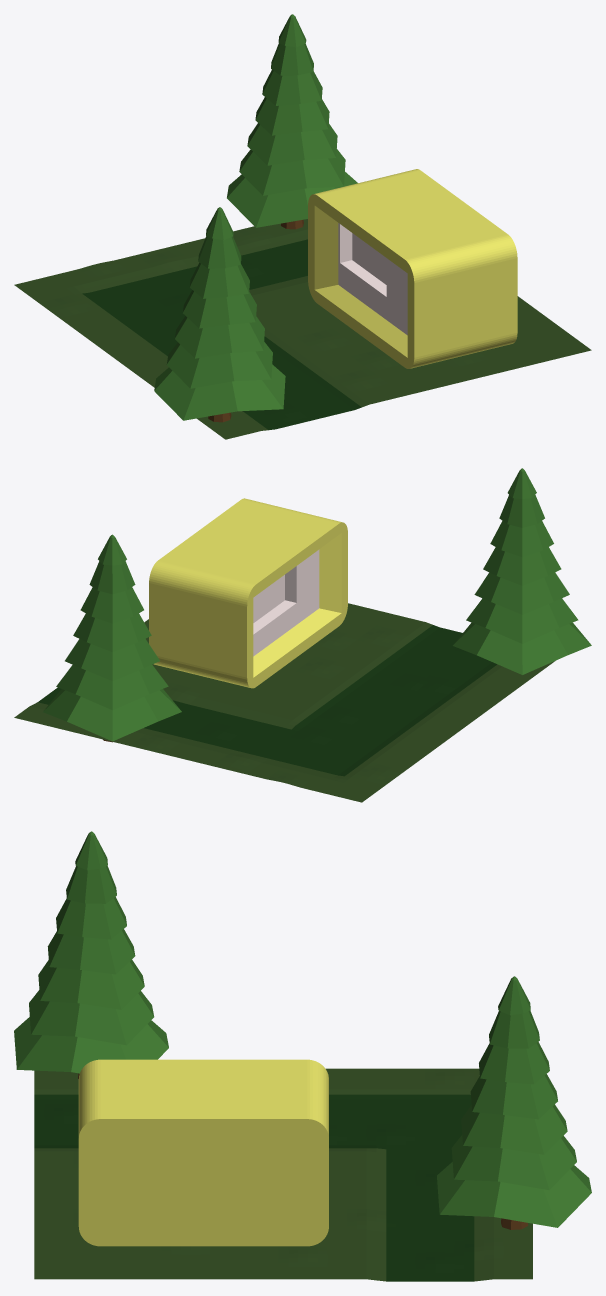
The model's file is testScene.gltf.
3 renders of one model, top to bottom at view 1: azimuth 30°, elevation 25°; view 2: azimuth 150°, elevation 25°; view 3: azimuth 270°, elevation 25°, orthographic. The views are drawn at different scales.
Visible parts, largest first — view 1: Plane, Cube, Low Poly Tree 5.001, Low Poly Tree 5.003; view 2: Plane, Cube, Low Poly Tree 5.003, Low Poly Tree 5.001; view 3: Plane, Cube, Low Poly Tree 5.003, Low Poly Tree 5.001.
Boxes of the visible parts, x1=… form: Plane: x1=14, y1=219, x2=591, y2=439; Cube: x1=308, y1=169, x2=517, y2=368; Low Poly Tree 5.001: x1=154, y1=207, x2=285, y2=422; Low Poly Tree 5.003: x1=227, y1=14, x2=357, y2=229; Plane: x1=14, y1=603, x2=554, y2=802; Cube: x1=149, y1=498, x2=347, y2=688; Low Poly Tree 5.003: x1=43, y1=534, x2=181, y2=742; Low Poly Tree 5.001: x1=452, y1=468, x2=591, y2=674; Plane: x1=34, y1=1068, x2=532, y2=1281; Cube: x1=78, y1=1059, x2=328, y2=1246; Low Poly Tree 5.003: x1=437, y1=976, x2=591, y2=1229; Low Poly Tree 5.001: x1=14, y1=831, x2=168, y2=1078.
Bounding box in the file's own units: 27.29 × 13.72 × 28.64.
